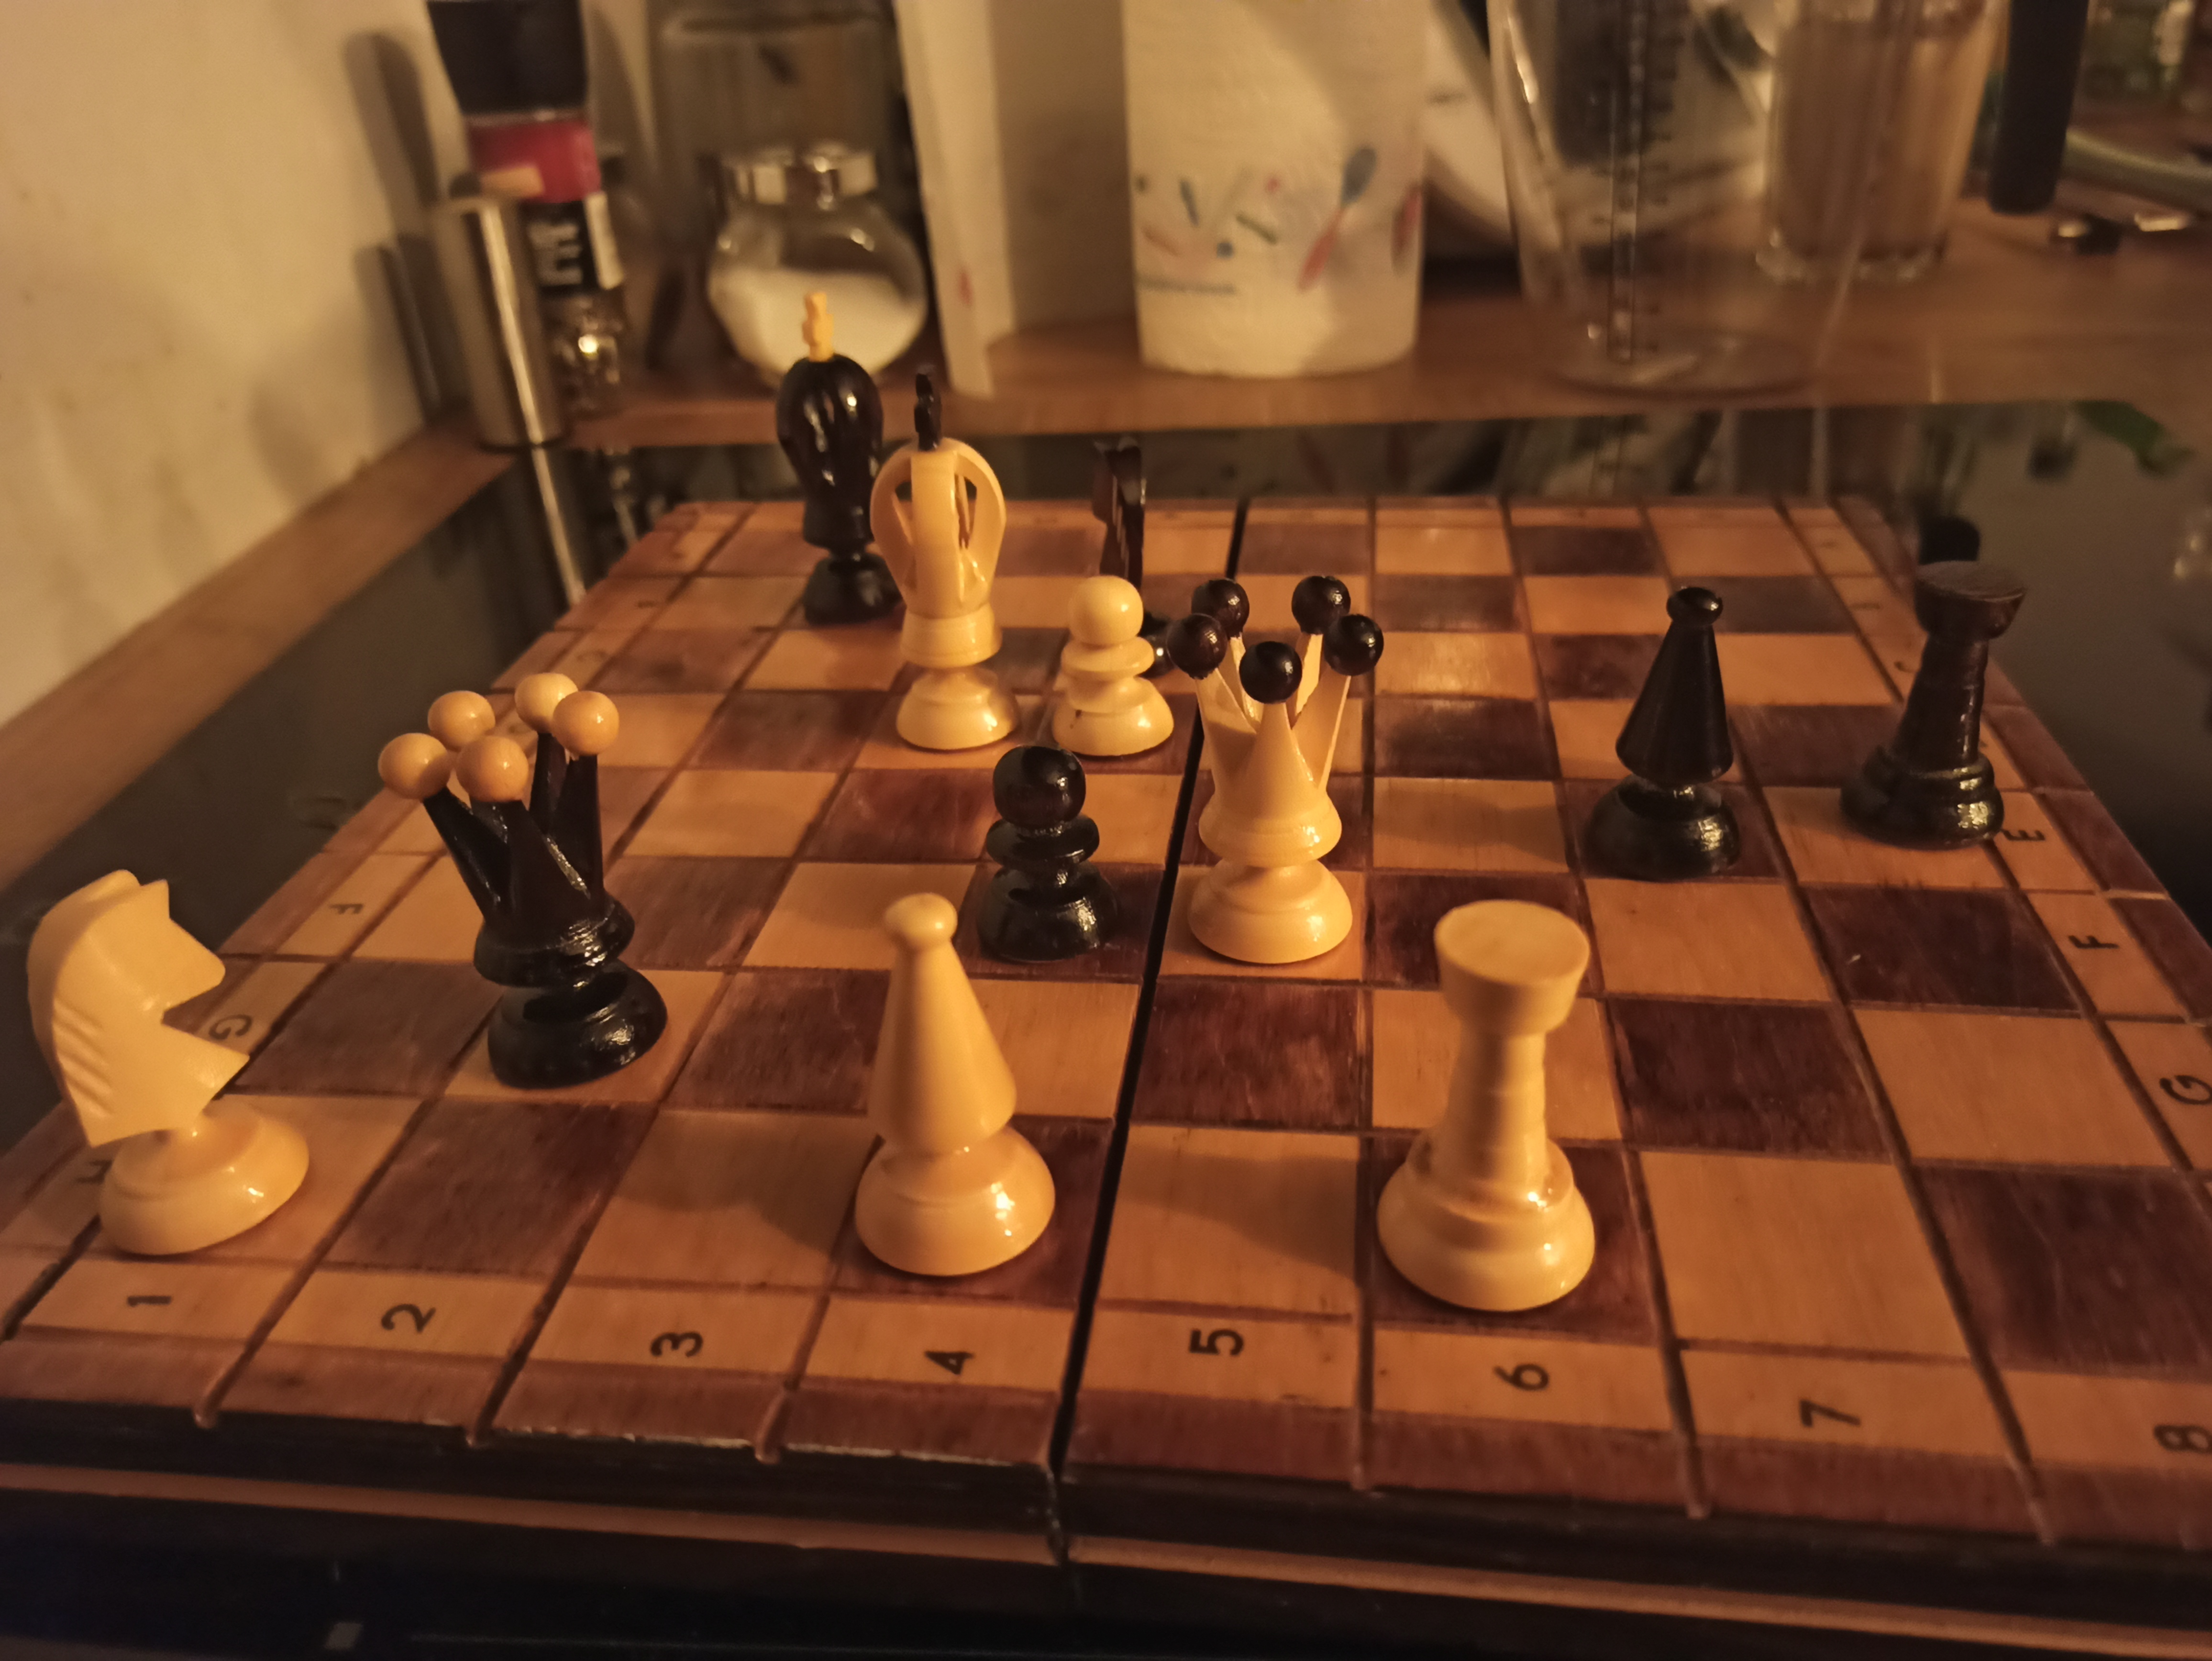bbishop: (1586, 579, 1746, 883)
bking: (759, 298, 904, 640)
bpawn: (970, 745, 1123, 968)
bqueen: (372, 670, 668, 1087)
brook: (1842, 558, 2031, 857)
wbishop: (853, 893, 1062, 1279)
wking: (862, 363, 1014, 754)
wknight: (24, 867, 311, 1251)
wpawn: (1045, 571, 1178, 755)
wqueen: (1144, 578, 1385, 975)
wrook: (1373, 897, 1607, 1321)
